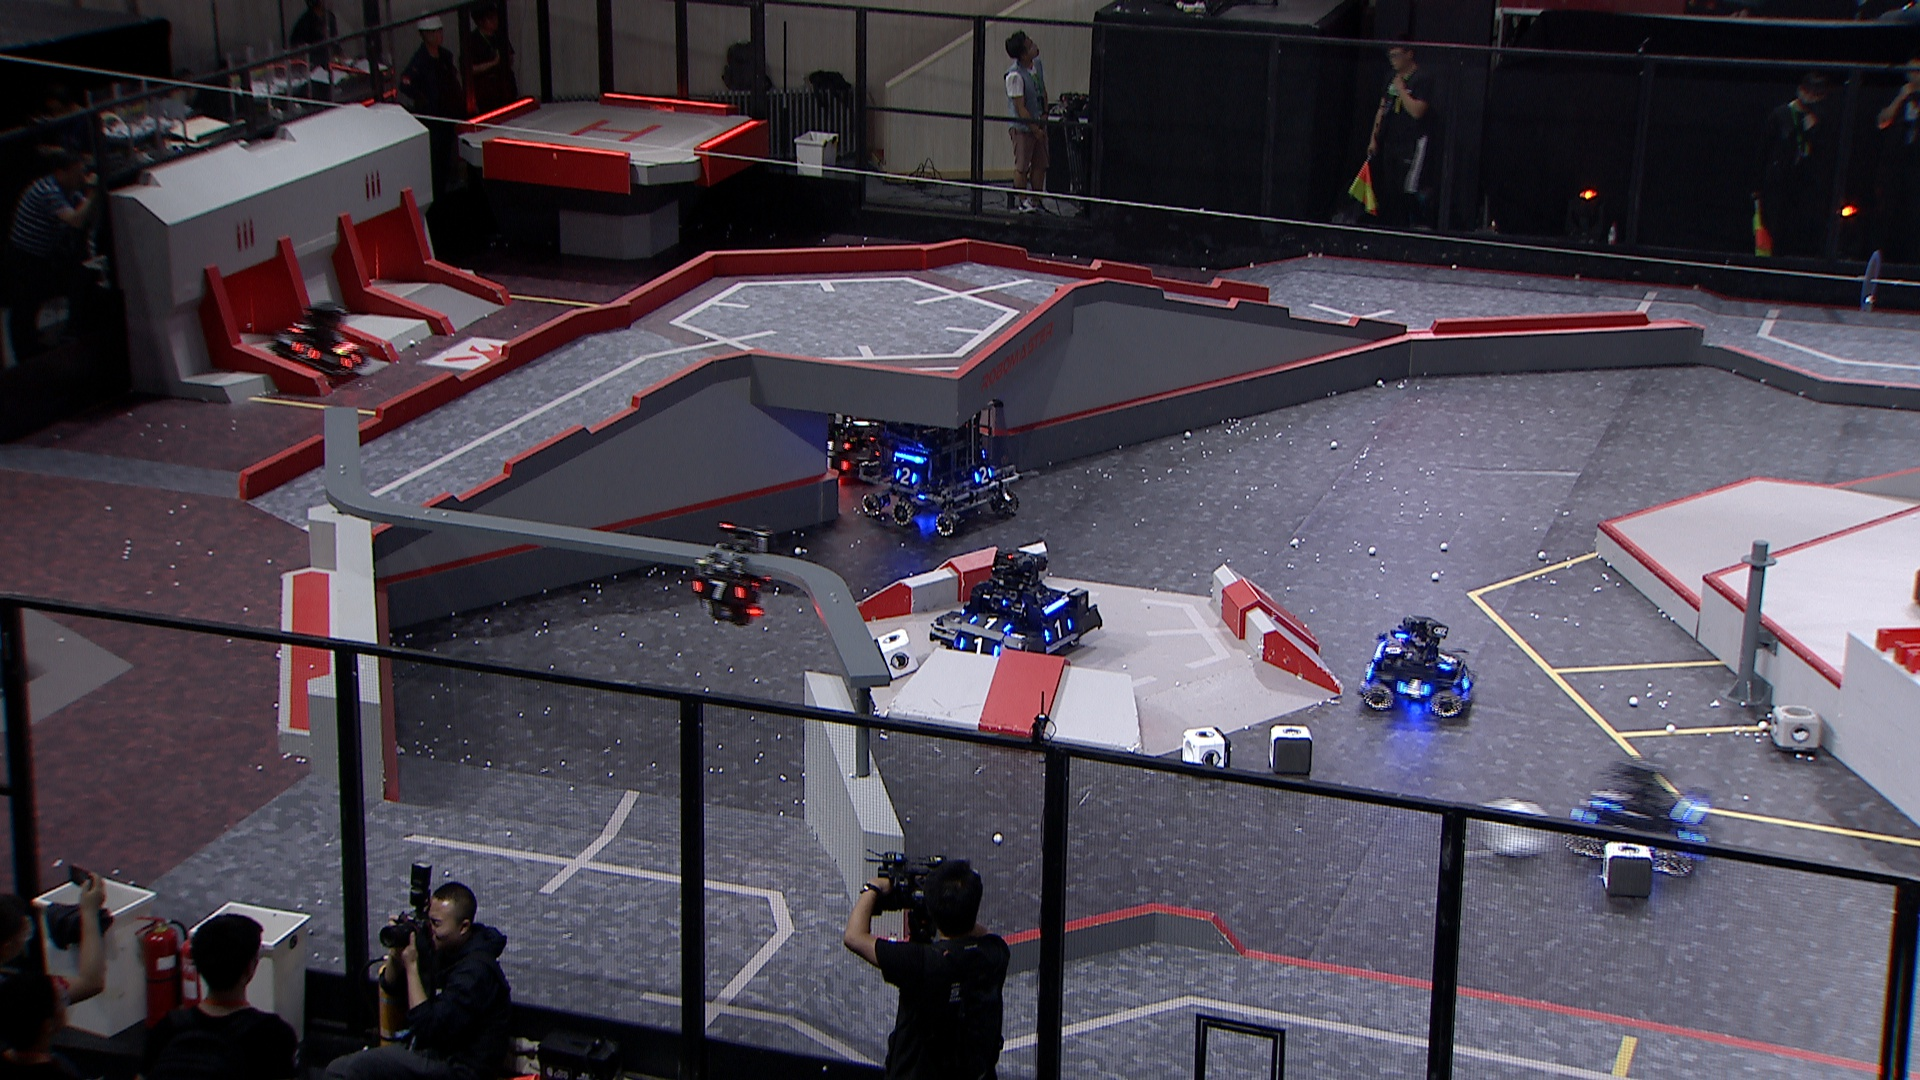armor: (692, 576, 750, 604), (1040, 616, 1076, 646), (1589, 787, 1629, 812), (960, 636, 1001, 657), (971, 613, 1013, 633), (1396, 678, 1433, 700), (291, 342, 323, 363), (1437, 650, 1458, 675), (893, 467, 918, 488), (972, 465, 996, 487), (342, 351, 365, 371), (823, 438, 851, 452), (825, 456, 851, 472)
car: (858, 386, 1021, 533), (927, 549, 1105, 669), (1565, 756, 1714, 880), (775, 372, 891, 485), (1357, 611, 1476, 717), (266, 301, 371, 384)
watcher: (690, 522, 773, 629)
